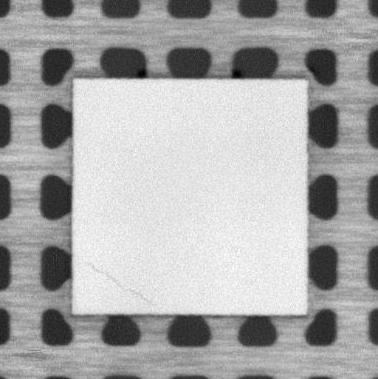DIE_CRACK: (85, 262, 152, 304)
